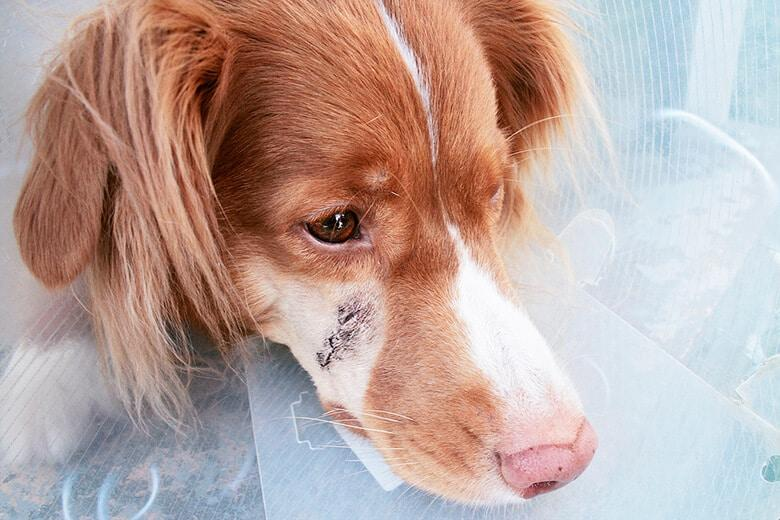cut: (291, 276, 400, 394)
